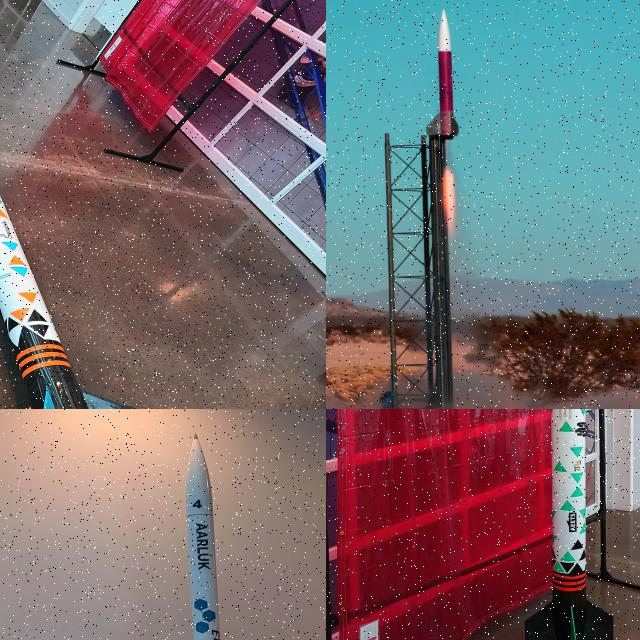Rocket: (0, 194, 137, 409), (524, 409, 614, 640), (185, 432, 221, 640), (425, 7, 460, 141)
